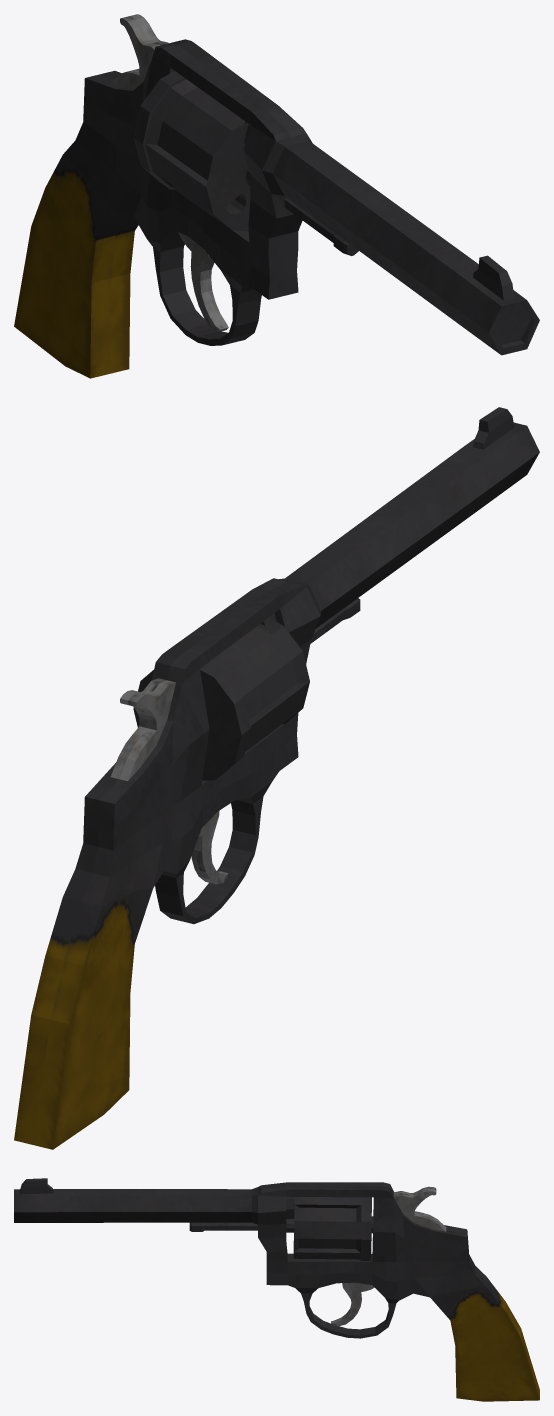
File: MKU_revolver02.fbx
3 renders of one model, top to bottom at view 1: azimuth 30°, elevation 25°; view 2: azimuth 150°, elevation 25°; view 3: azimuth 270°, elevation 25°, orthographic. The views are drawn at different scales.
Visible parts, largest first — view 1: 0_revolver; view 2: 0_revolver; view 3: 0_revolver.
Boxes of the visible parts, bbox=[...] form: 0_revolver: bbox=[14, 14, 539, 378]; 0_revolver: bbox=[14, 407, 539, 1149]; 0_revolver: bbox=[14, 1178, 539, 1401].
Bounding box in the file's own units: 56.58 × 198 × 436.
Materials: 1 (1 with a texture image).
